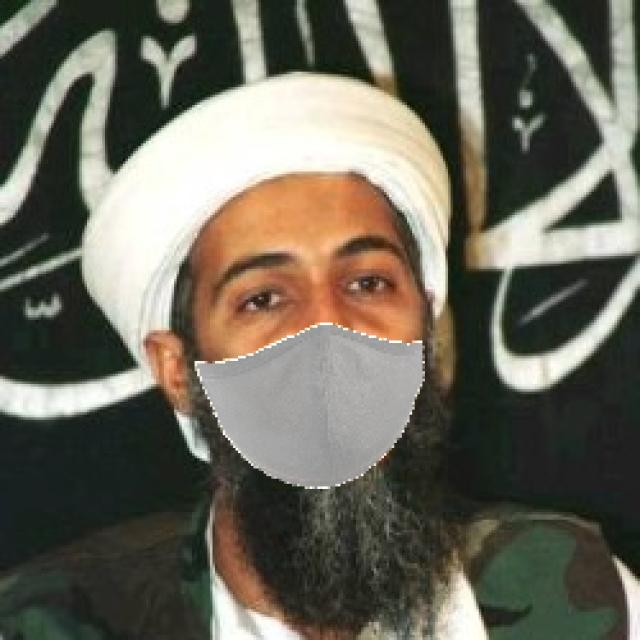mask: (176, 326, 440, 494)
